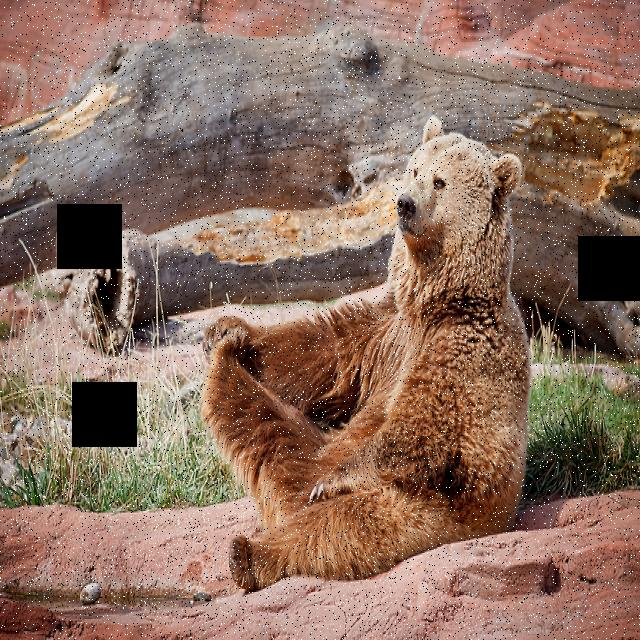Bear: (187, 106, 533, 587)
